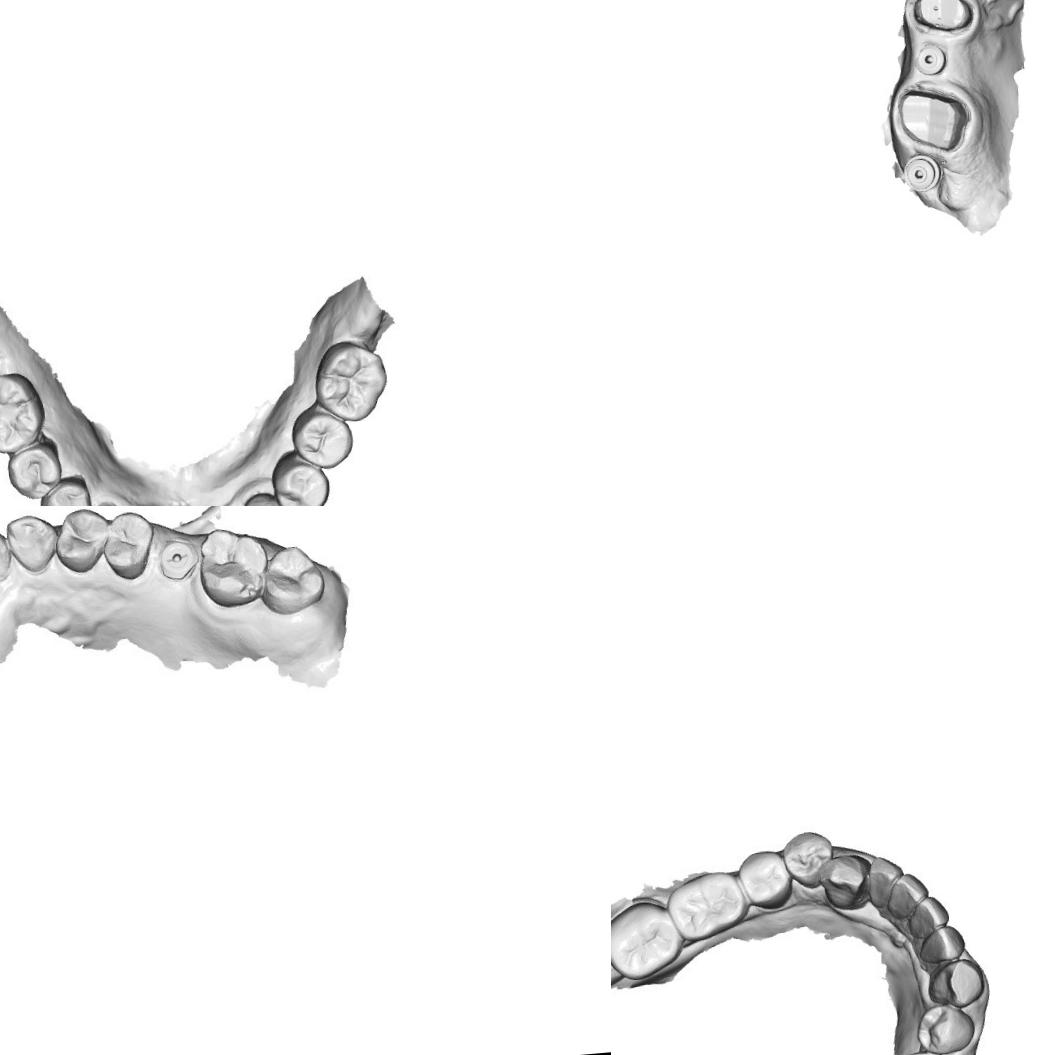canine: (5, 509, 56, 579), (817, 849, 871, 902), (931, 962, 984, 1007), (243, 490, 297, 506)
crown: (894, 80, 974, 158), (909, 0, 978, 35)
implant: (900, 151, 942, 194), (912, 40, 950, 78)
implant_minus: (156, 540, 200, 580)
incisor: (861, 854, 904, 908), (908, 897, 952, 938), (919, 928, 965, 963), (887, 874, 926, 914)
molar: (310, 334, 392, 425), (611, 897, 684, 983), (196, 527, 270, 607), (666, 873, 747, 938), (257, 540, 324, 616), (0, 369, 47, 457)
premolar: (288, 406, 354, 474), (100, 508, 154, 583), (2, 439, 64, 502), (47, 506, 101, 572), (739, 850, 795, 907), (271, 453, 331, 506), (781, 826, 834, 885), (916, 1006, 977, 1054), (34, 476, 92, 506)
